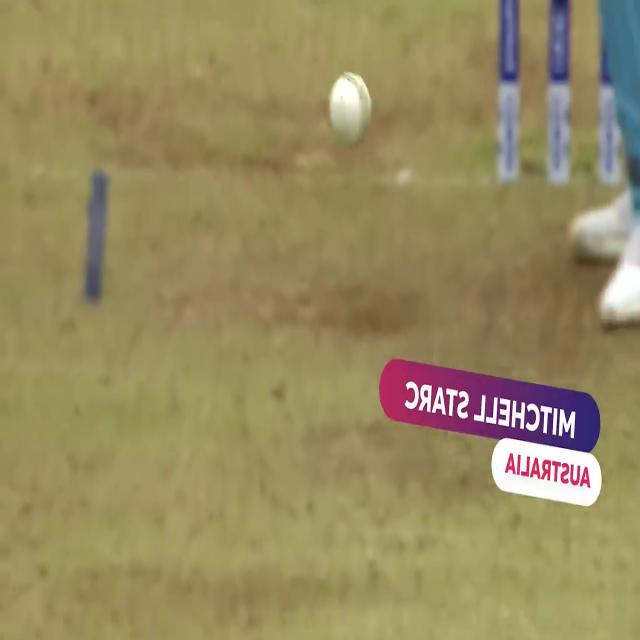ball: (324, 68, 373, 150)
